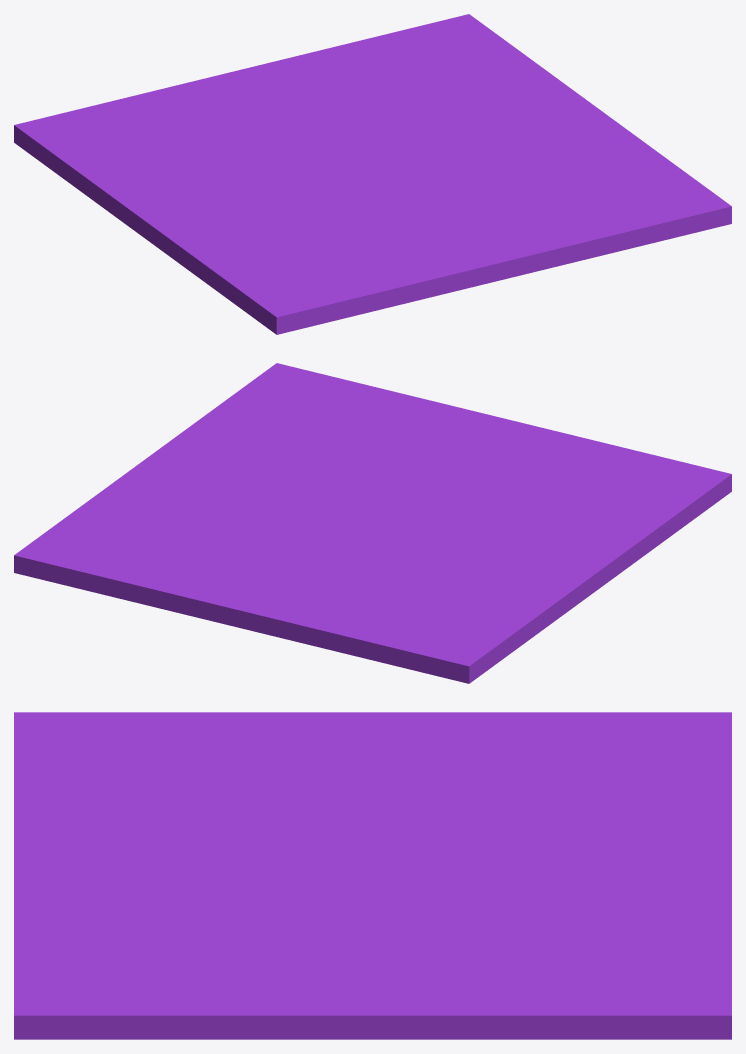
File: Platform_59_chunks.fbx
The picture shows the model from 3 angles, top to bottom: view 1: azimuth 30°, elevation 25°; view 2: azimuth 150°, elevation 25°; view 3: azimuth 270°, elevation 25°; orthographic projection. The views are drawn at different scales.
Parts seen in each view (by area): view 1: Platform_59_0, Platform_59_4, Platform_59_12, Platform_59_3, Platform_59_5, Platform_59_7, Platform_59_11, Platform_59_10, Platform_59_8, Platform_59_1, Platform_59_9; view 2: Platform_59_3, Platform_59_4, Platform_59_0, Platform_59_12, Platform_59_5, Platform_59_7, Platform_59_10, Platform_59_11, Platform_59_8, Platform_59_1, Platform_59_9; view 3: Platform_59_0, Platform_59_5, Platform_59_4, Platform_59_3, Platform_59_12, Platform_59_7, Platform_59_8, Platform_59_10, Platform_59_11, Platform_59_1, Platform_59_6.
Boxes of the visible parts, left/top/right/bottom form: Platform_59_0: left=360, top=160, right=701, bottom=278; Platform_59_4: left=14, top=88, right=255, bottom=208; Platform_59_12: left=132, top=212, right=371, bottom=328; Platform_59_3: left=165, top=25, right=423, bottom=134; Platform_59_5: left=380, top=14, right=520, bottom=161; Platform_59_7: left=392, top=134, right=731, bottom=239; Platform_59_11: left=332, top=194, right=506, bottom=313; Platform_59_10: left=104, top=169, right=389, bottom=224; Platform_59_8: left=505, top=52, right=678, bottom=167; Platform_59_1: left=213, top=124, right=390, bottom=184; Platform_59_9: left=126, top=214, right=364, bottom=334; Platform_59_3: left=60, top=528, right=367, bottom=647; Platform_59_4: left=318, top=564, right=564, bottom=683; Platform_59_0: left=306, top=370, right=528, bottom=517; Platform_59_12: left=506, top=451, right=731, bottom=580; Platform_59_5: left=14, top=482, right=357, bottom=586; Platform_59_7: left=225, top=363, right=355, bottom=509; Platform_59_10: left=387, top=494, right=587, bottom=617; Platform_59_11: left=422, top=424, right=635, bottom=502; Platform_59_8: left=67, top=401, right=242, bottom=516; Platform_59_1: left=280, top=515, right=490, bottom=572; Platform_59_9: left=581, top=485, right=731, bottom=601; Platform_59_0: left=14, top=848, right=384, bottom=995; Platform_59_5: left=370, top=871, right=731, bottom=1039; Platform_59_4: left=430, top=712, right=731, bottom=826; Platform_59_3: left=475, top=812, right=731, bottom=984; Platform_59_12: left=14, top=712, right=407, bottom=805; Platform_59_7: left=14, top=876, right=370, bottom=1039; Platform_59_8: left=156, top=951, right=589, bottom=1033; Platform_59_10: left=248, top=712, right=470, bottom=854; Platform_59_11: left=14, top=776, right=282, bottom=853; Platform_59_1: left=372, top=771, right=539, bottom=900; Platform_59_6: left=150, top=1025, right=575, bottom=1039.
Size of the model in its own units: 810 by 29.87 by 810.
